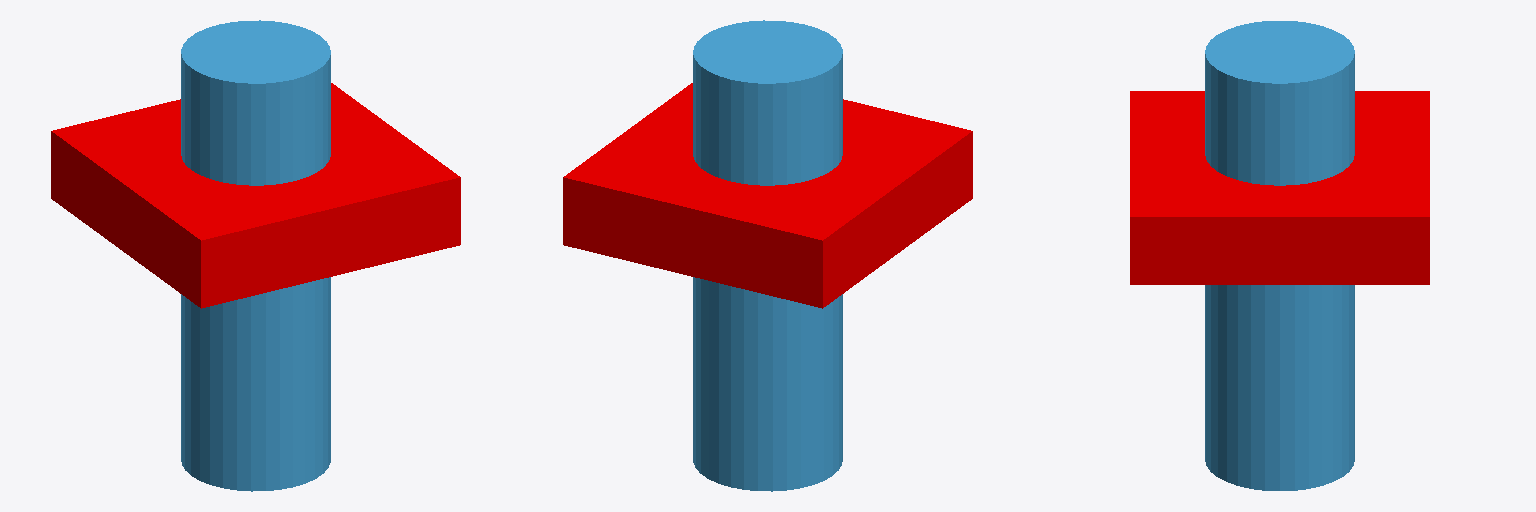
The robot description file, URDF, robot "two_link_arm":
<?xml version="1.0"?>
<robot name="two_link_arm">
  <material name="red">
    <color rgba="1 0 0 1"/>
  </material>

  <link name="base_link">
    <visual>
      <origin xyz="0 0 0.1" rpy="0 0 0"/>
      <geometry>
        <box size="0.2 0.2 0.05"/>
      </geometry>
      <material name="red"/>
    </visual>
    <collision name="base_col">
      <geometry>
        <sphere radius="0.1"/>
      </geometry>
    </collision>
    <inertial>
      <mass value="1.5"/>
      <inertia ixx="0.01" iyy="0.01" izz="0.02" ixy="0" ixz="0" iyz="0"/>
    </inertial>
  </link>

  <link name="upper_arm">
    <visual>
      <geometry>
        <cylinder radius="0.05" length="0.3"/>
      </geometry>
    </visual>
  </link>

  <link name="forearm"/>

  <joint name="shoulder" type="revolute">
    <parent link="base_link"/>
    <child link="upper_arm"/>
    <origin xyz="0 0 0.05" rpy="0 0 0"/>
    <axis xyz="0 1 0"/>
    <limit lower="-1.57" upper="1.57" effort="50" velocity="2"/>
    <dynamics damping="0.5" friction="0.1"/>
  </joint>

  <joint name="elbow" type="continuous">
    <parent link="upper_arm"/>
    <child link="forearm"/>
    <origin xyz="0 0 0.3" rpy="0 0 0"/>
    <axis xyz="0 1 0"/>
    <limit effort="20" velocity="3"/>
  </joint>

  <link name="gripper"/>

  <joint name="wrist" type="fixed">
    <parent link="forearm"/>
    <child link="gripper"/>
    <origin xyz="0 0 0.25" rpy="0 0 0"/>
  </joint>
</robot>

--- Facts derived from the render (not from the file) ---
The picture shows the robot from 3 angles, left to right: view 1: azimuth 30°, elevation 25°; view 2: azimuth 150°, elevation 25°; view 3: azimuth 270°, elevation 25°; orthographic projection.
Model two_link_arm with 4 links and 3 joints (1 revolute, 1 continuous, 1 fixed), rooted at base_link, posed all joints at 0.
Links seen in each view (by area): view 1: base_link, upper_arm; view 2: base_link, upper_arm; view 3: upper_arm, base_link.
Link boxes in pixels (x1=…): base_link: x1=51, y1=83, x2=460, y2=308; upper_arm: x1=181, y1=20, x2=330, y2=491; base_link: x1=563, y1=83, x2=972, y2=308; upper_arm: x1=693, y1=20, x2=842, y2=491; upper_arm: x1=1205, y1=21, x2=1354, y2=490; base_link: x1=1130, y1=91, x2=1429, y2=284.
Bounding box of the posed robot: 0.2 × 0.2 × 0.3 m (x, y, z).
Geometry: primitives only (box / cylinder / sphere), no mesh files.
